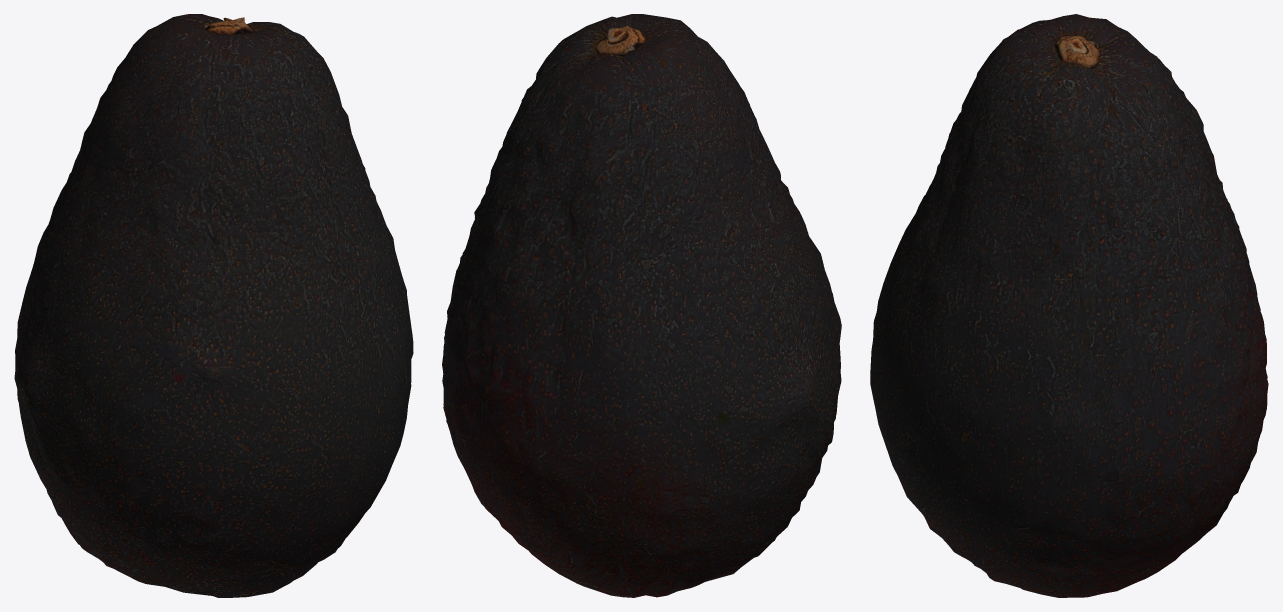
File: avocado.glb
The picture shows the model from 3 angles, left to right: view 1: azimuth 30°, elevation 25°; view 2: azimuth 150°, elevation 25°; view 3: azimuth 270°, elevation 25°; orthographic projection. The views are drawn at different scales.
Parts seen in each view (by area): view 1: food_avocado_01; view 2: food_avocado_01; view 3: food_avocado_01.
Part boxes in pixels (x1,y1,x2,y2): food_avocado_01: [14, 14, 413, 597]; food_avocado_01: [442, 14, 841, 597]; food_avocado_01: [870, 14, 1268, 597].
Size of the model in its own units: 1.11 by 1.67 by 1.1.
1 material, 1 textured.
